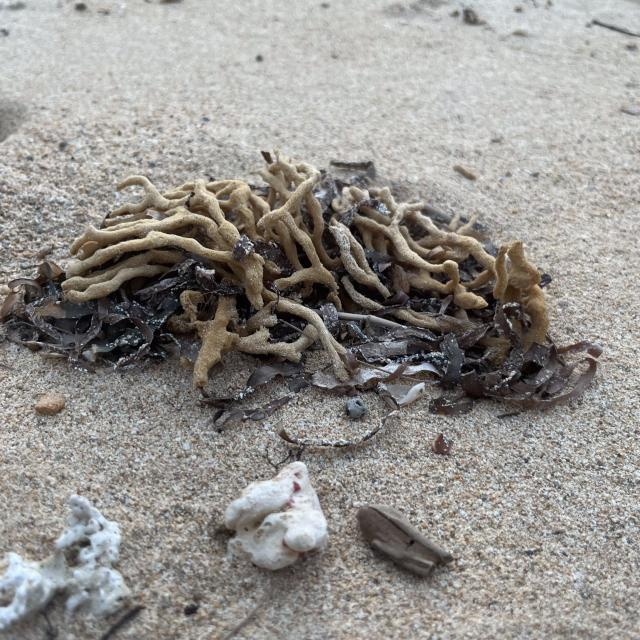coral: (17, 140, 597, 408), (214, 447, 330, 567)
